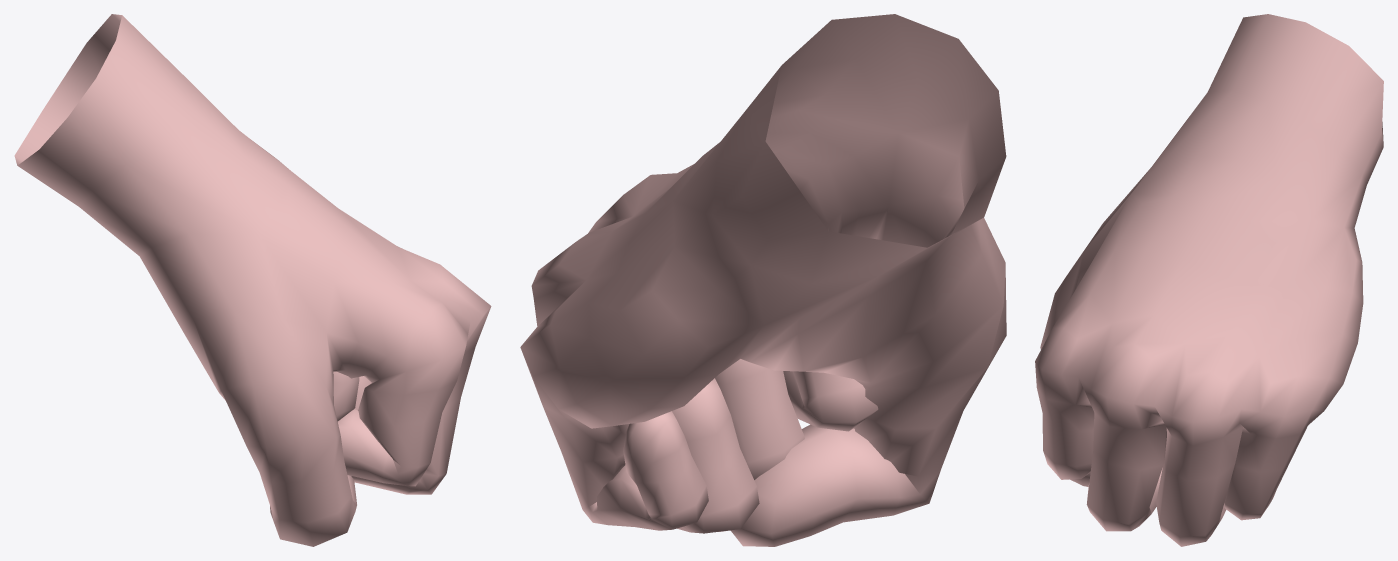
Rendered from Base_Male_A_Fist02.fbx.
3 views of the same model, side by side, from view 1: azimuth 30°, elevation 25°; view 2: azimuth 150°, elevation 25°; view 3: azimuth 270°, elevation 25° (orthographic). The views are drawn at different scales.
Parts seen in each view (by area): view 1: Base_Male_A_Fist02; view 2: Base_Male_A_Fist02; view 3: Base_Male_A_Fist02.
Boxes of the visible parts, x1=… form: Base_Male_A_Fist02: x1=14, y1=14, x2=491, y2=546; Base_Male_A_Fist02: x1=520, y1=14, x2=1006, y2=546; Base_Male_A_Fist02: x1=1035, y1=14, x2=1383, y2=546.
Bounding box in the file's own units: 0.6942 × 0.8019 × 0.5869.
